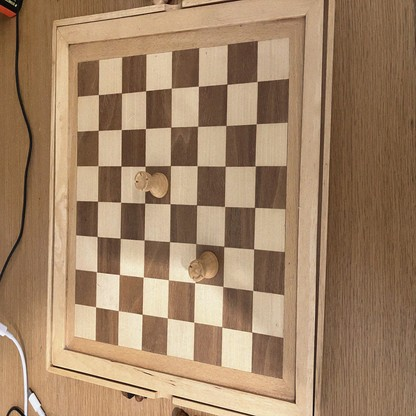rock_white: (189, 250, 219, 282), (136, 172, 168, 198)
